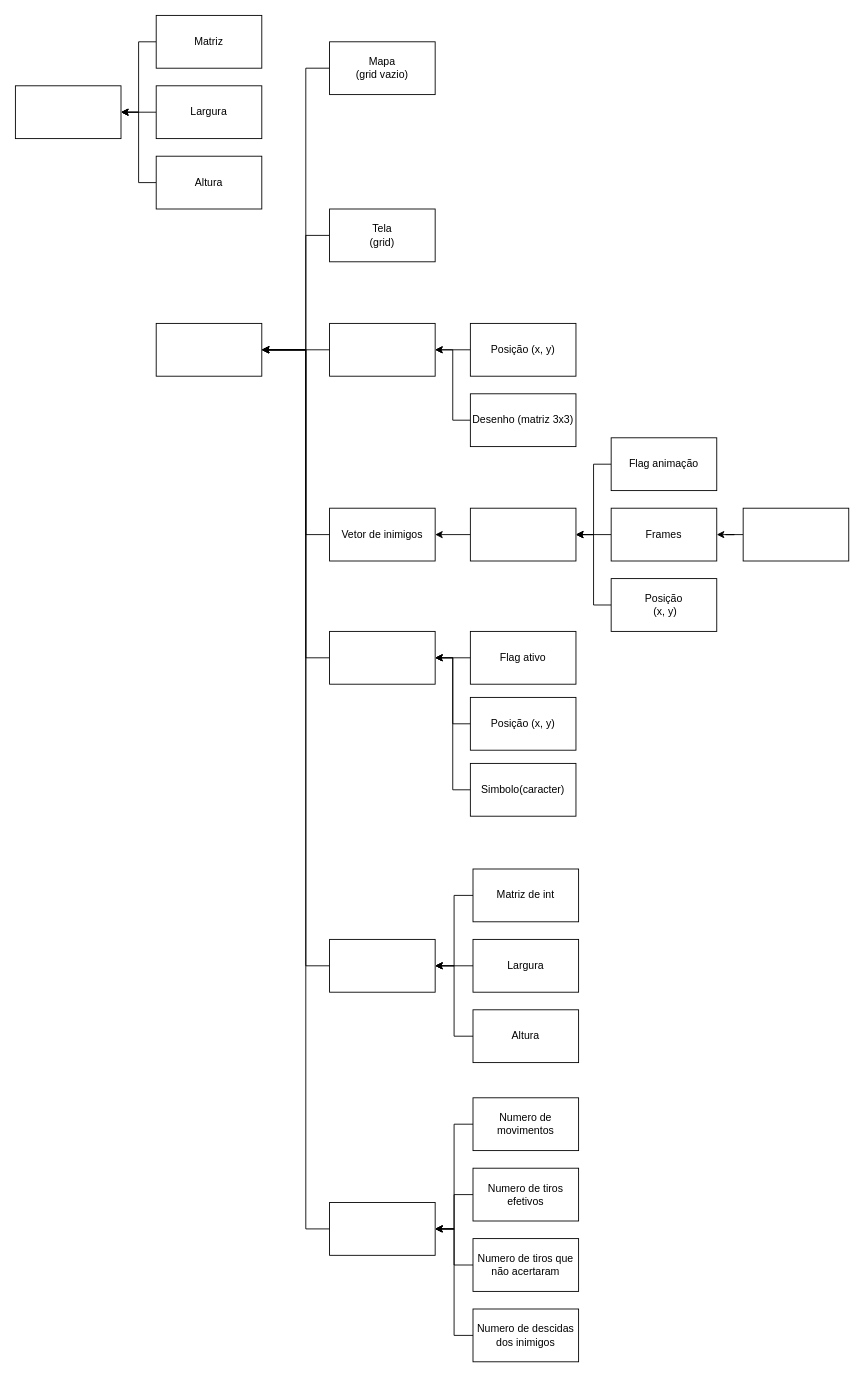
This 864x1377 diagram has some shape labels left out. The shapes that lost their labels are listed below. From the top down, each one's centre as x and y in pixels, then its label:
At (x=68, y=112): "Grid (tipo definido pelo usuario)".
At (x=208, y=349): "Jogo".
At (x=382, y=349): "Jogador".
At (x=522, y=534): "Inimigo".
At (x=795, y=534): "Matriz 3x3x3".
At (x=382, y=657): "Disparo".
At (x=382, y=965): "Heatmap (enxerga o tiro e o jogador)".
At (x=382, y=1228): "Estatísticas".
